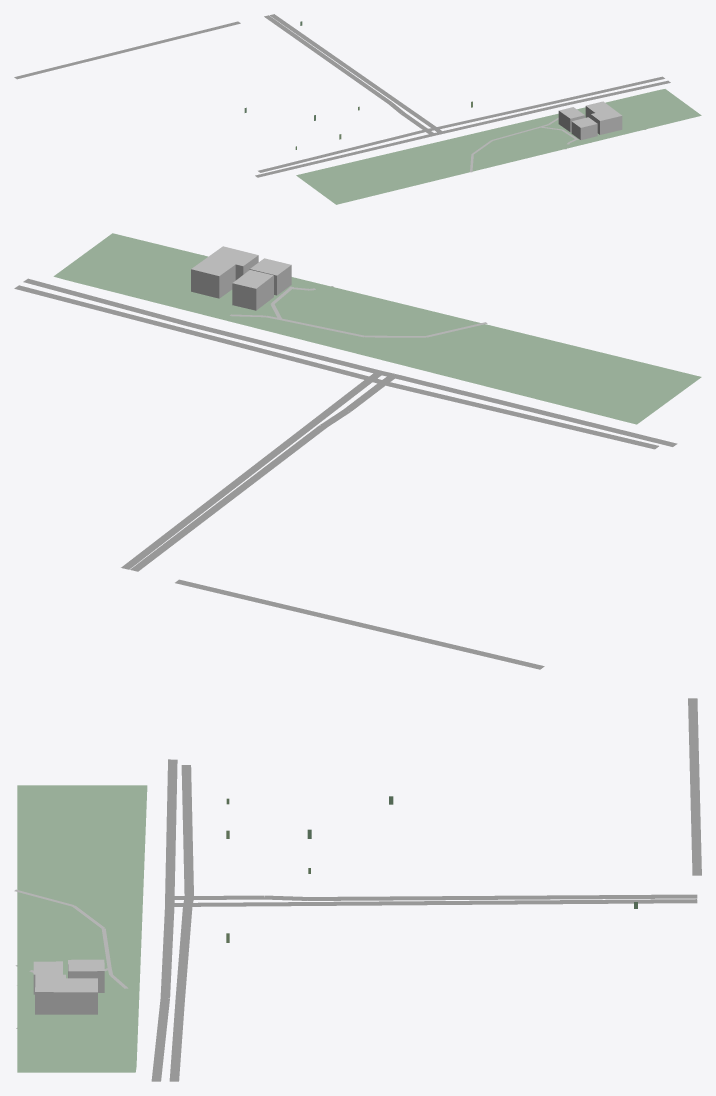
The picture shows the model from 3 angles, top to bottom: view 1: azimuth 30°, elevation 25°; view 2: azimuth 150°, elevation 25°; view 3: azimuth 270°, elevation 25°; orthographic projection. The views are drawn at different scales.
Size of the model in its own units: 667 by 18.67 by 506.
